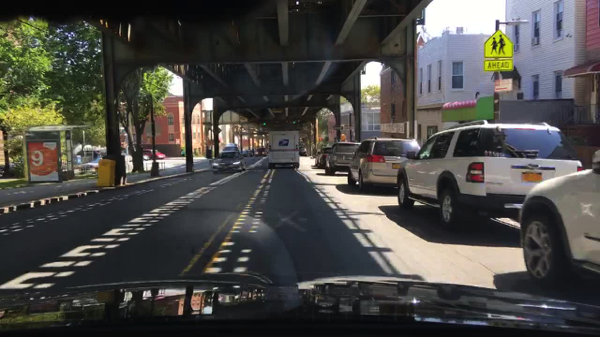car: (395, 118, 584, 235), (515, 147, 599, 294), (345, 136, 422, 195), (323, 140, 363, 177), (208, 149, 247, 175), (77, 156, 108, 174), (314, 146, 332, 169), (141, 147, 167, 161), (254, 147, 269, 158), (222, 143, 240, 151), (242, 149, 254, 158), (299, 146, 309, 156)
traffic sign: (482, 29, 514, 59), (484, 60, 515, 72)
truck: (266, 130, 301, 170)
